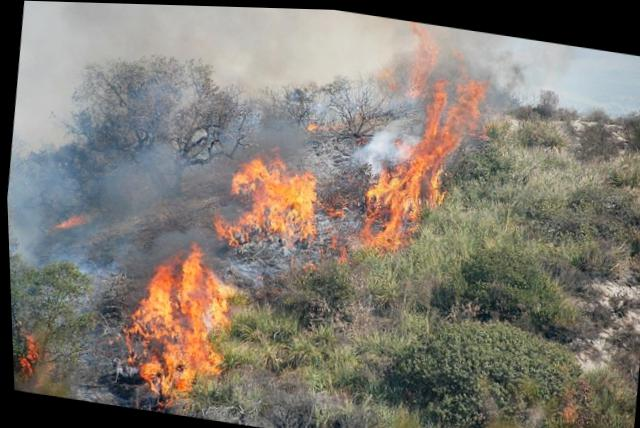fire: (148, 3, 521, 286), (76, 226, 289, 424), (8, 281, 97, 401), (17, 156, 111, 247)
